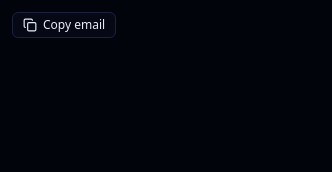
CopyEmail › copies the email address and confirms it
This screenshot has width=332, height=172.
Click the button "Copy email": (64, 25) [12,12,116,38]
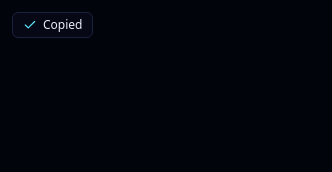
expect the text "Copied" is shown: met, box [43,17,82,33]
